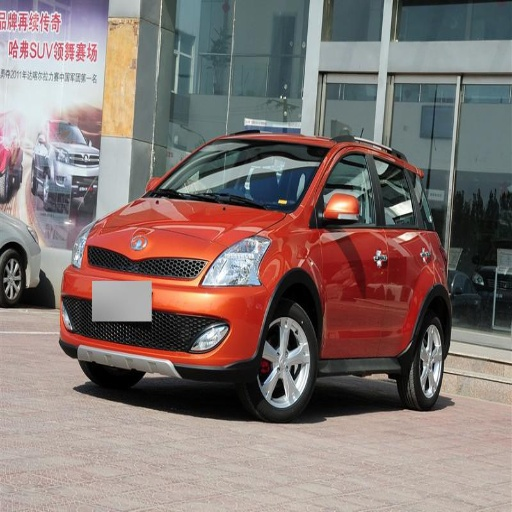back_left_door: (370, 147, 425, 353)
front_bumper: (60, 236, 272, 380)
front_glass: (147, 140, 326, 211)
front_left_door: (314, 146, 387, 355)
trunk: (417, 236, 450, 309)
